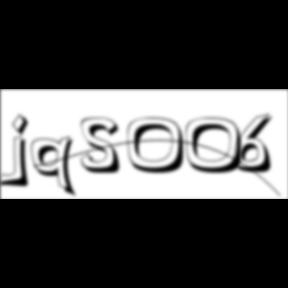6: (234, 112, 280, 176)
O: (128, 117, 192, 176), (186, 117, 250, 176)
S: (81, 117, 127, 176)
j: (9, 113, 36, 191)
q: (32, 135, 80, 200)
